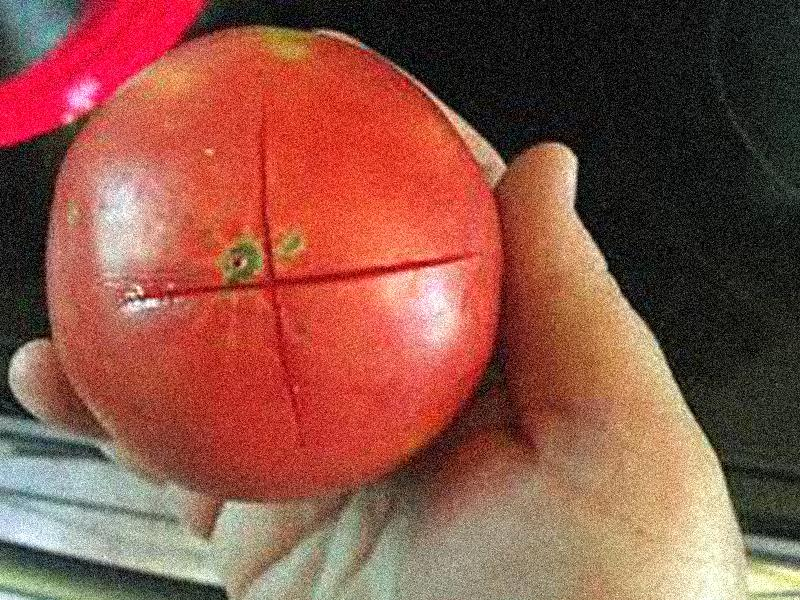Tomato: (42, 28, 506, 504)
